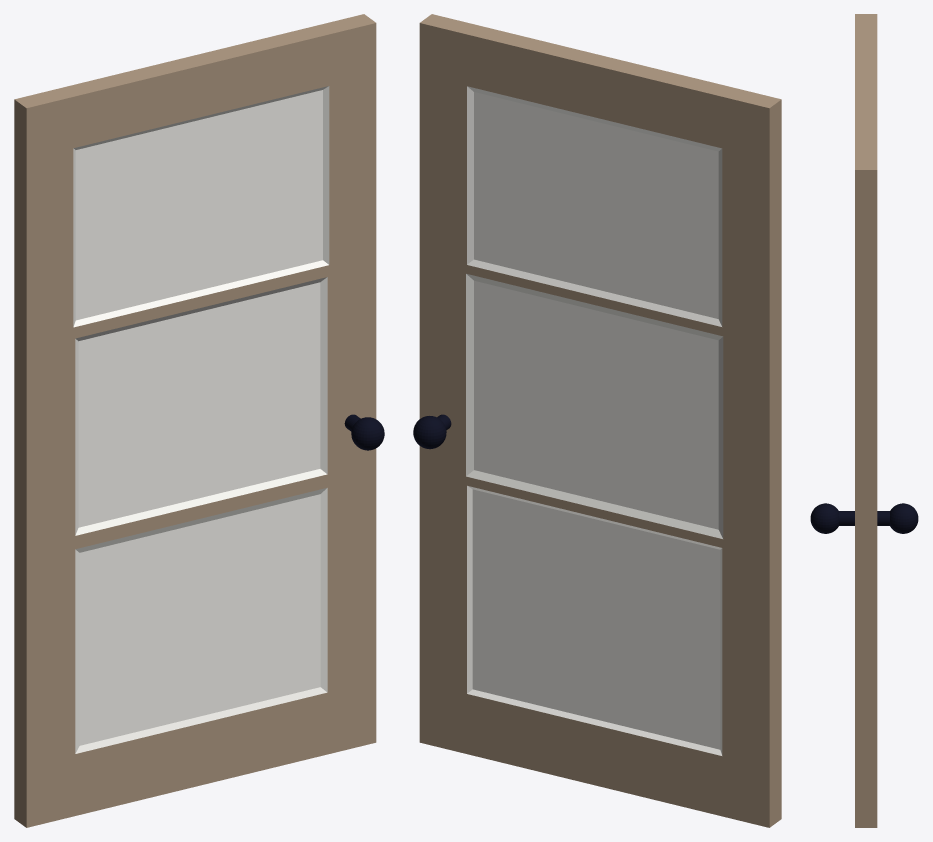
Rendered from DoorV1.fbx.
3 views of the same model, side by side, from view 1: azimuth 30°, elevation 25°; view 2: azimuth 150°, elevation 25°; view 3: azimuth 270°, elevation 25° (orthographic). The views are drawn at different scales.
Parts seen in each view (by area): view 1: Door; view 2: Door; view 3: Door.
Boxes of the visible parts, x1,y1,x2,y2 form: Door: (14,14,384,827); Door: (413,14,781,827); Door: (810,14,918,827).
Size of the model in its own units: 281 by 962 by 1890.
